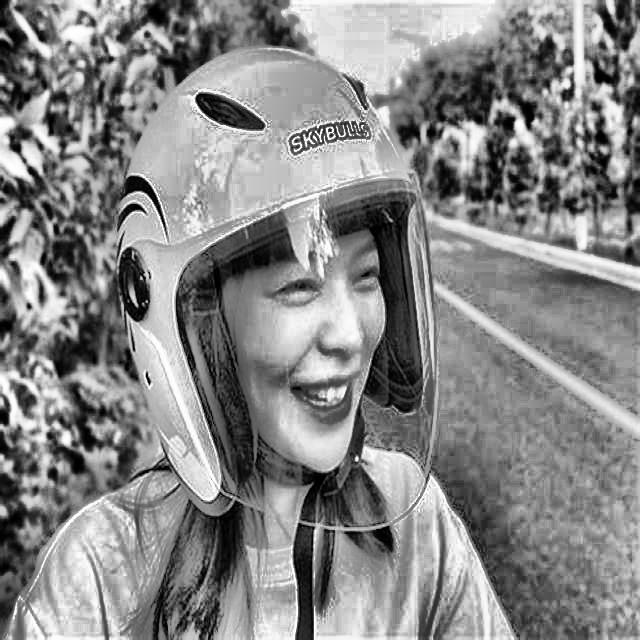Helmet: (109, 34, 448, 544)
